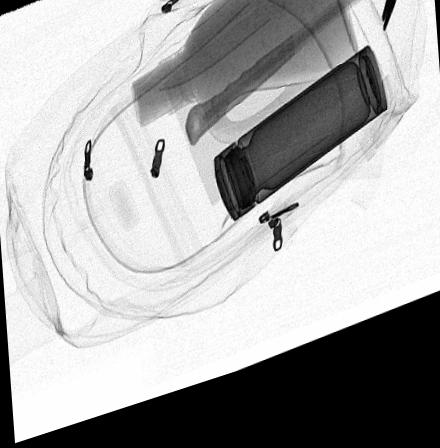Hammer: (185, 0, 400, 158)
